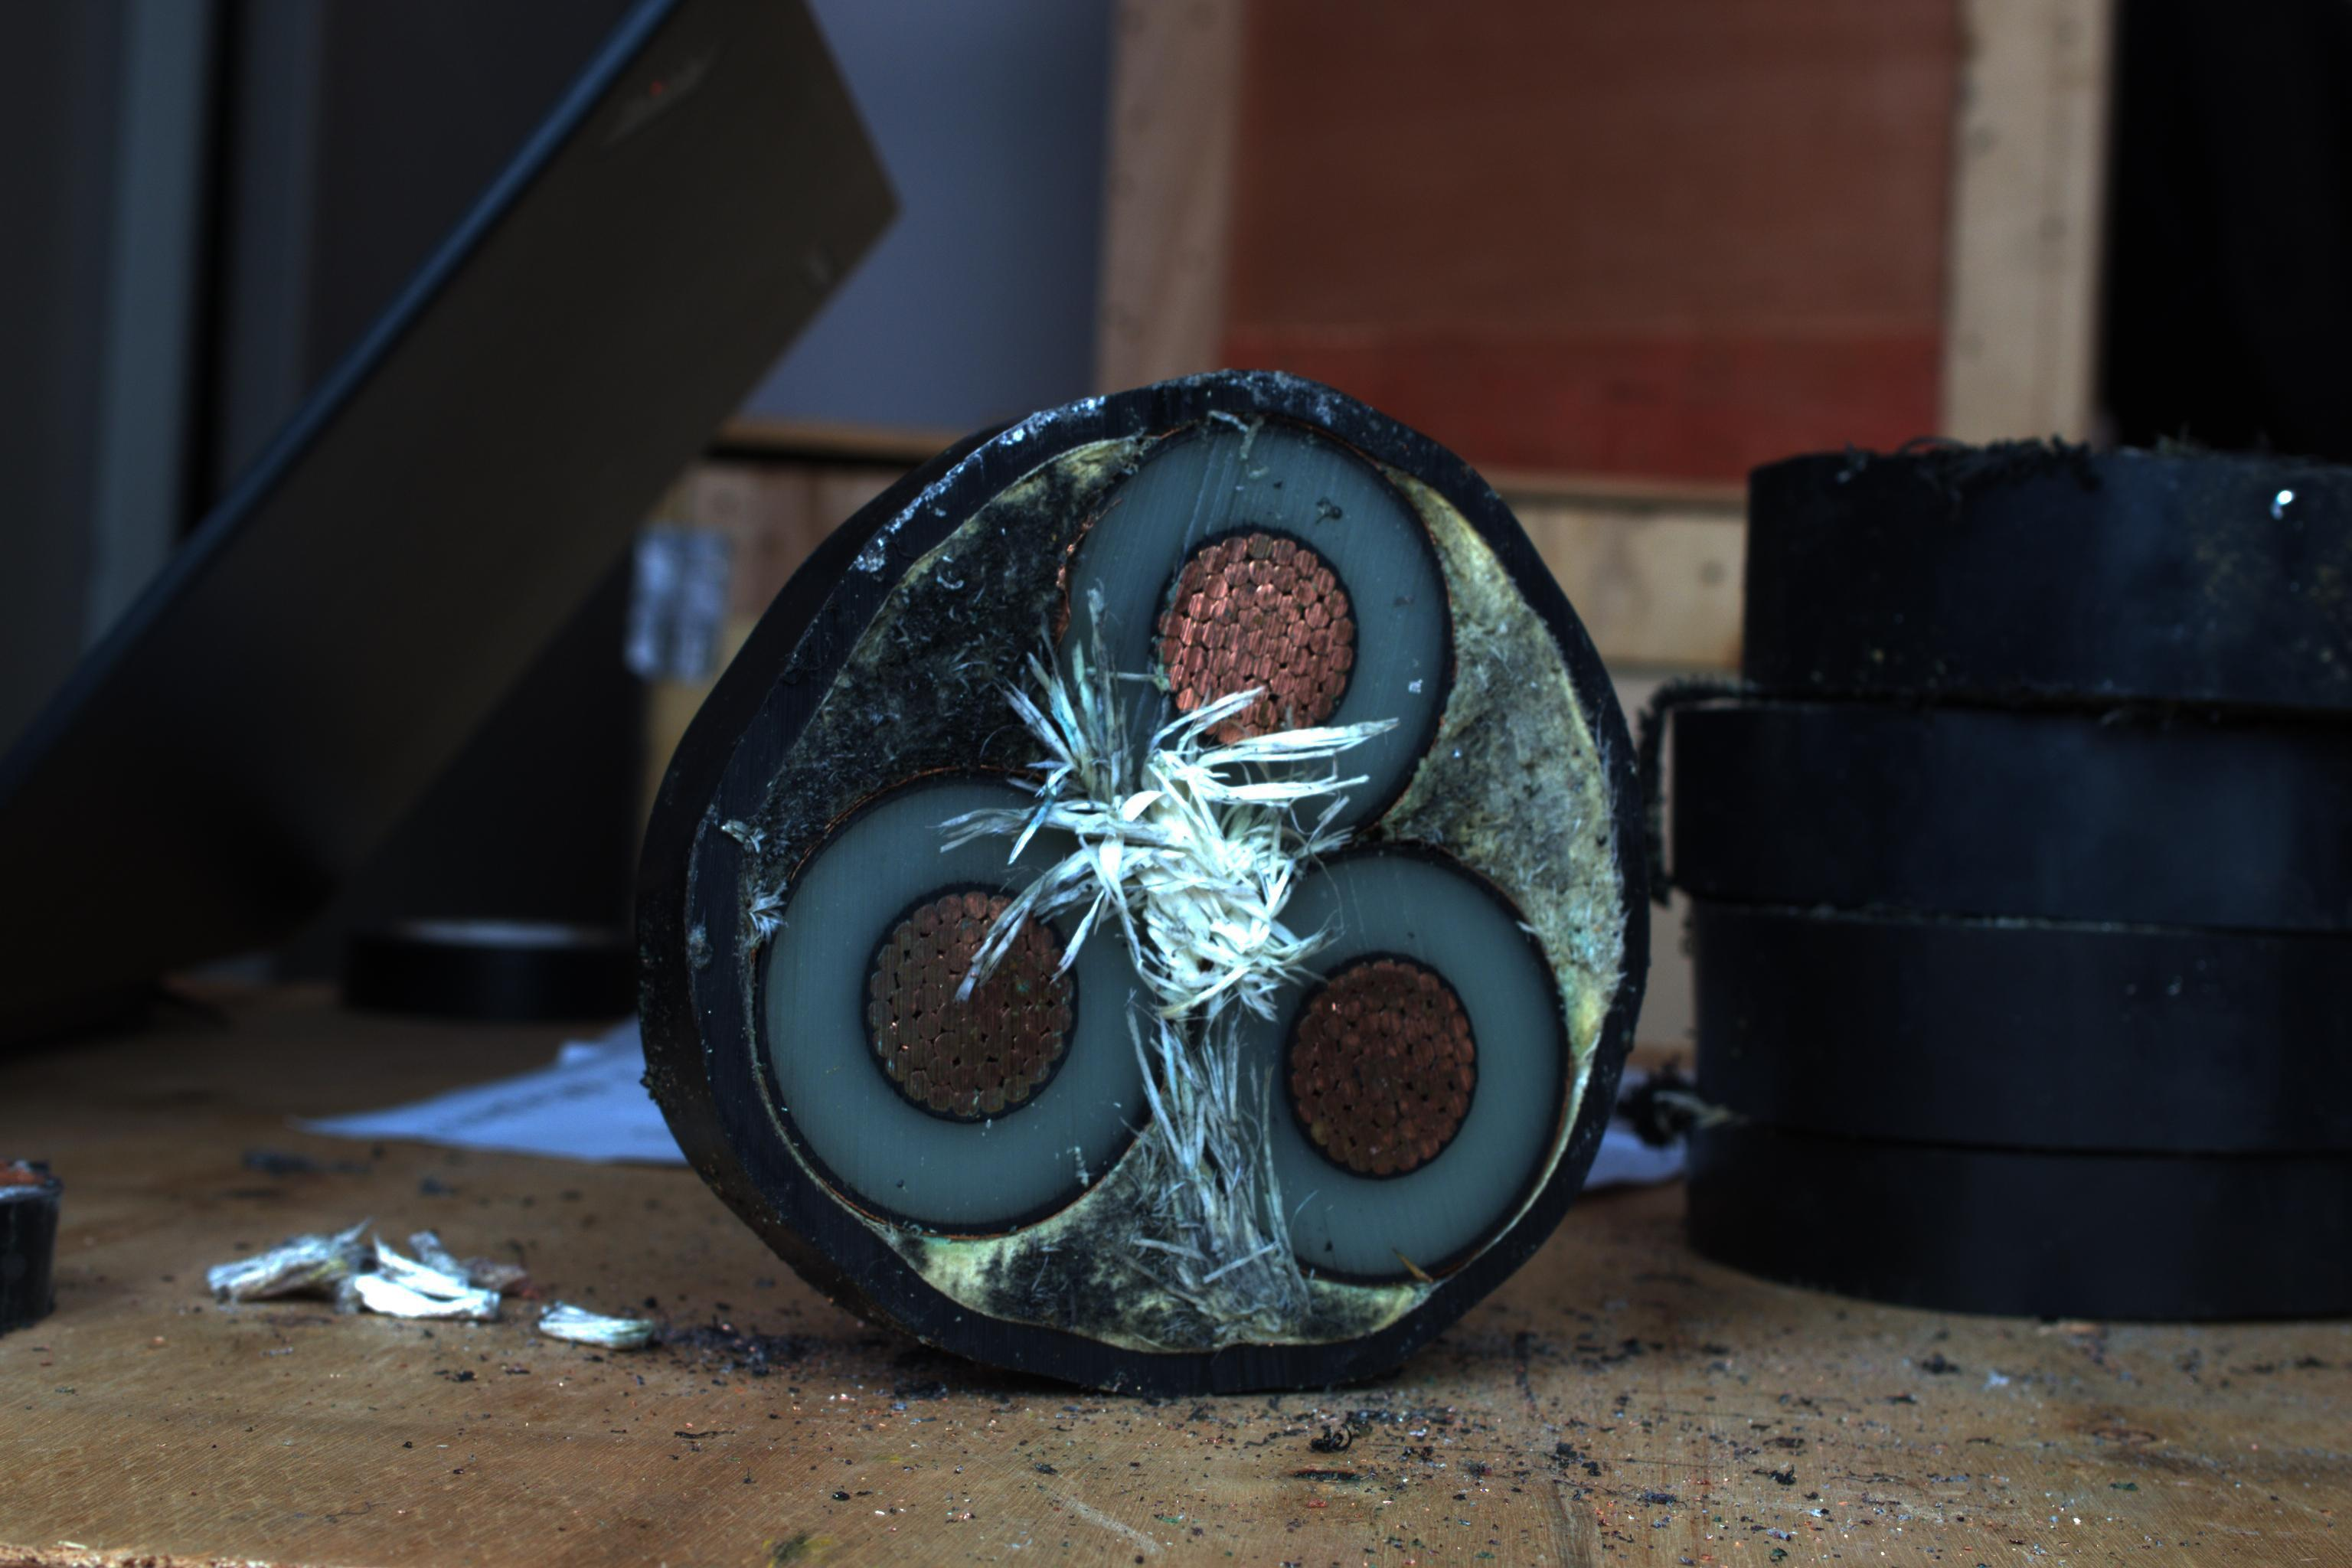ZA_YJV_26_35kV_3x400: (684, 390, 1697, 1403)
